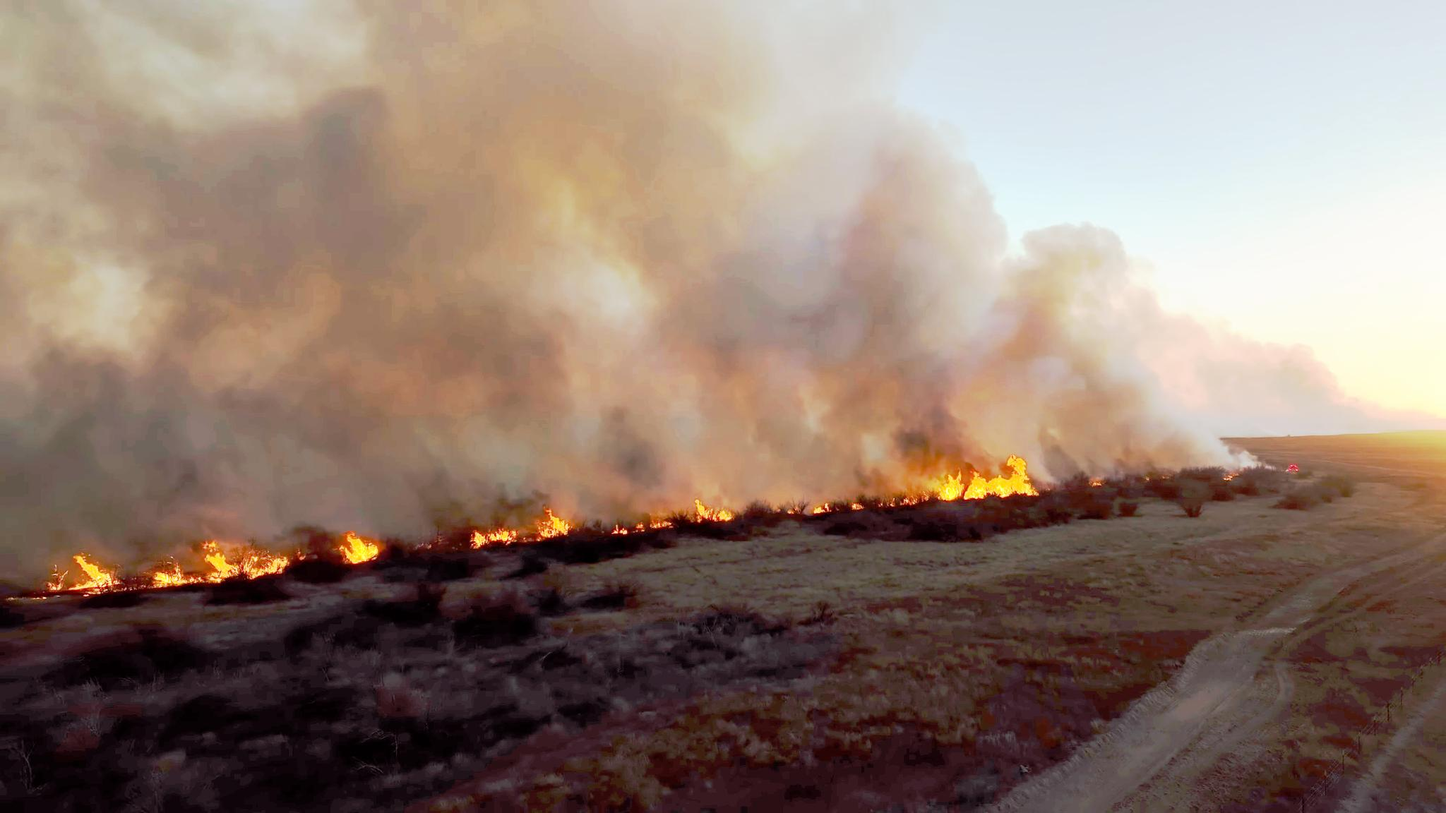fire: (129, 528, 279, 612), (948, 450, 1026, 503), (335, 522, 392, 565)
smoke: (0, 0, 520, 240), (716, 63, 963, 366), (0, 307, 374, 507)
